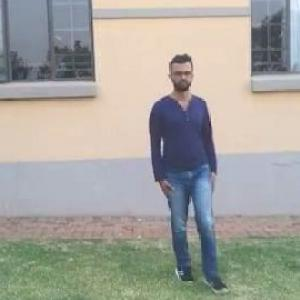follow: (150, 55, 214, 276)
